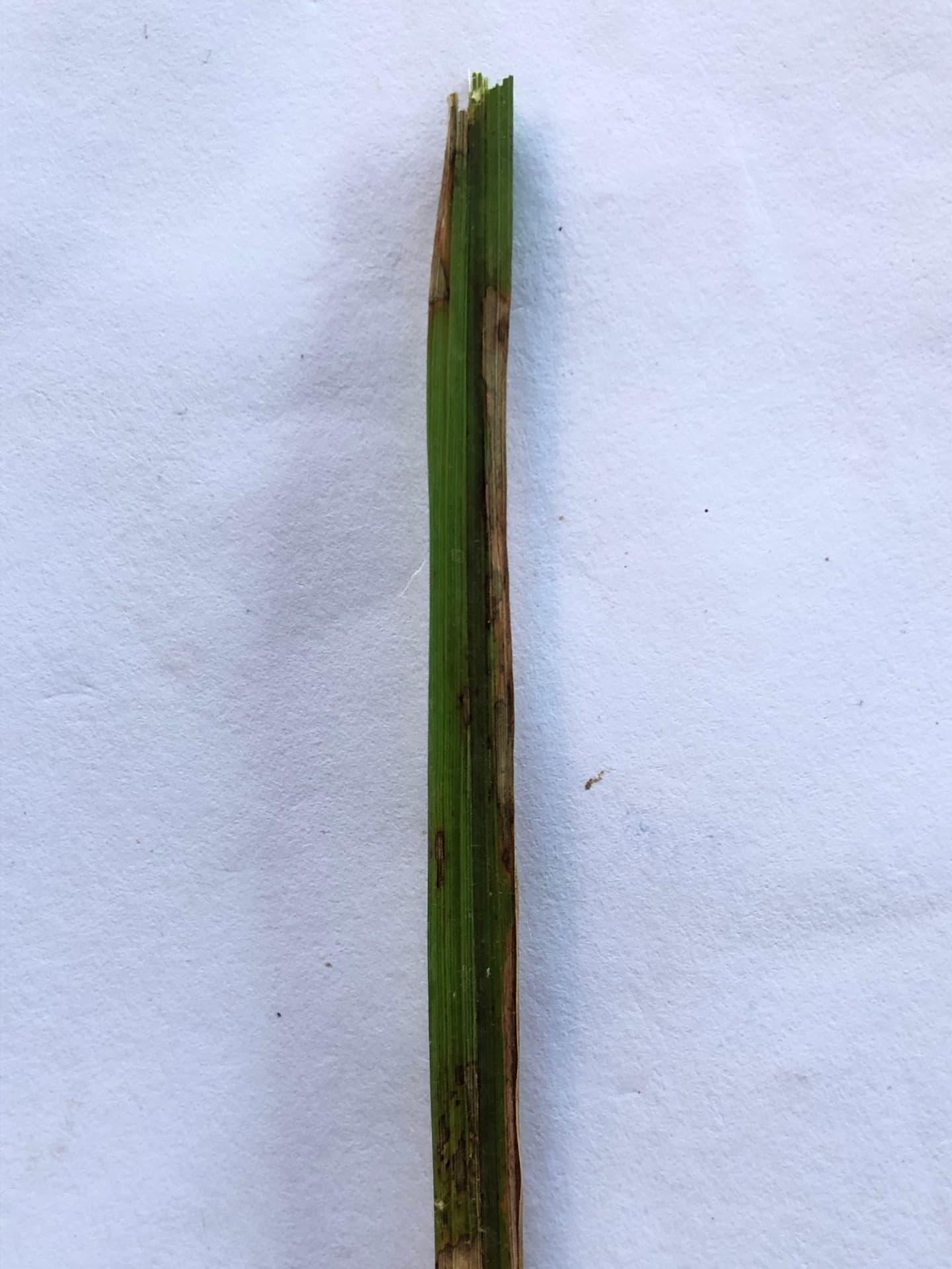Leaf Blight: (483, 288, 523, 1268), (432, 1063, 485, 1268), (428, 91, 469, 310), (434, 829, 447, 890)
